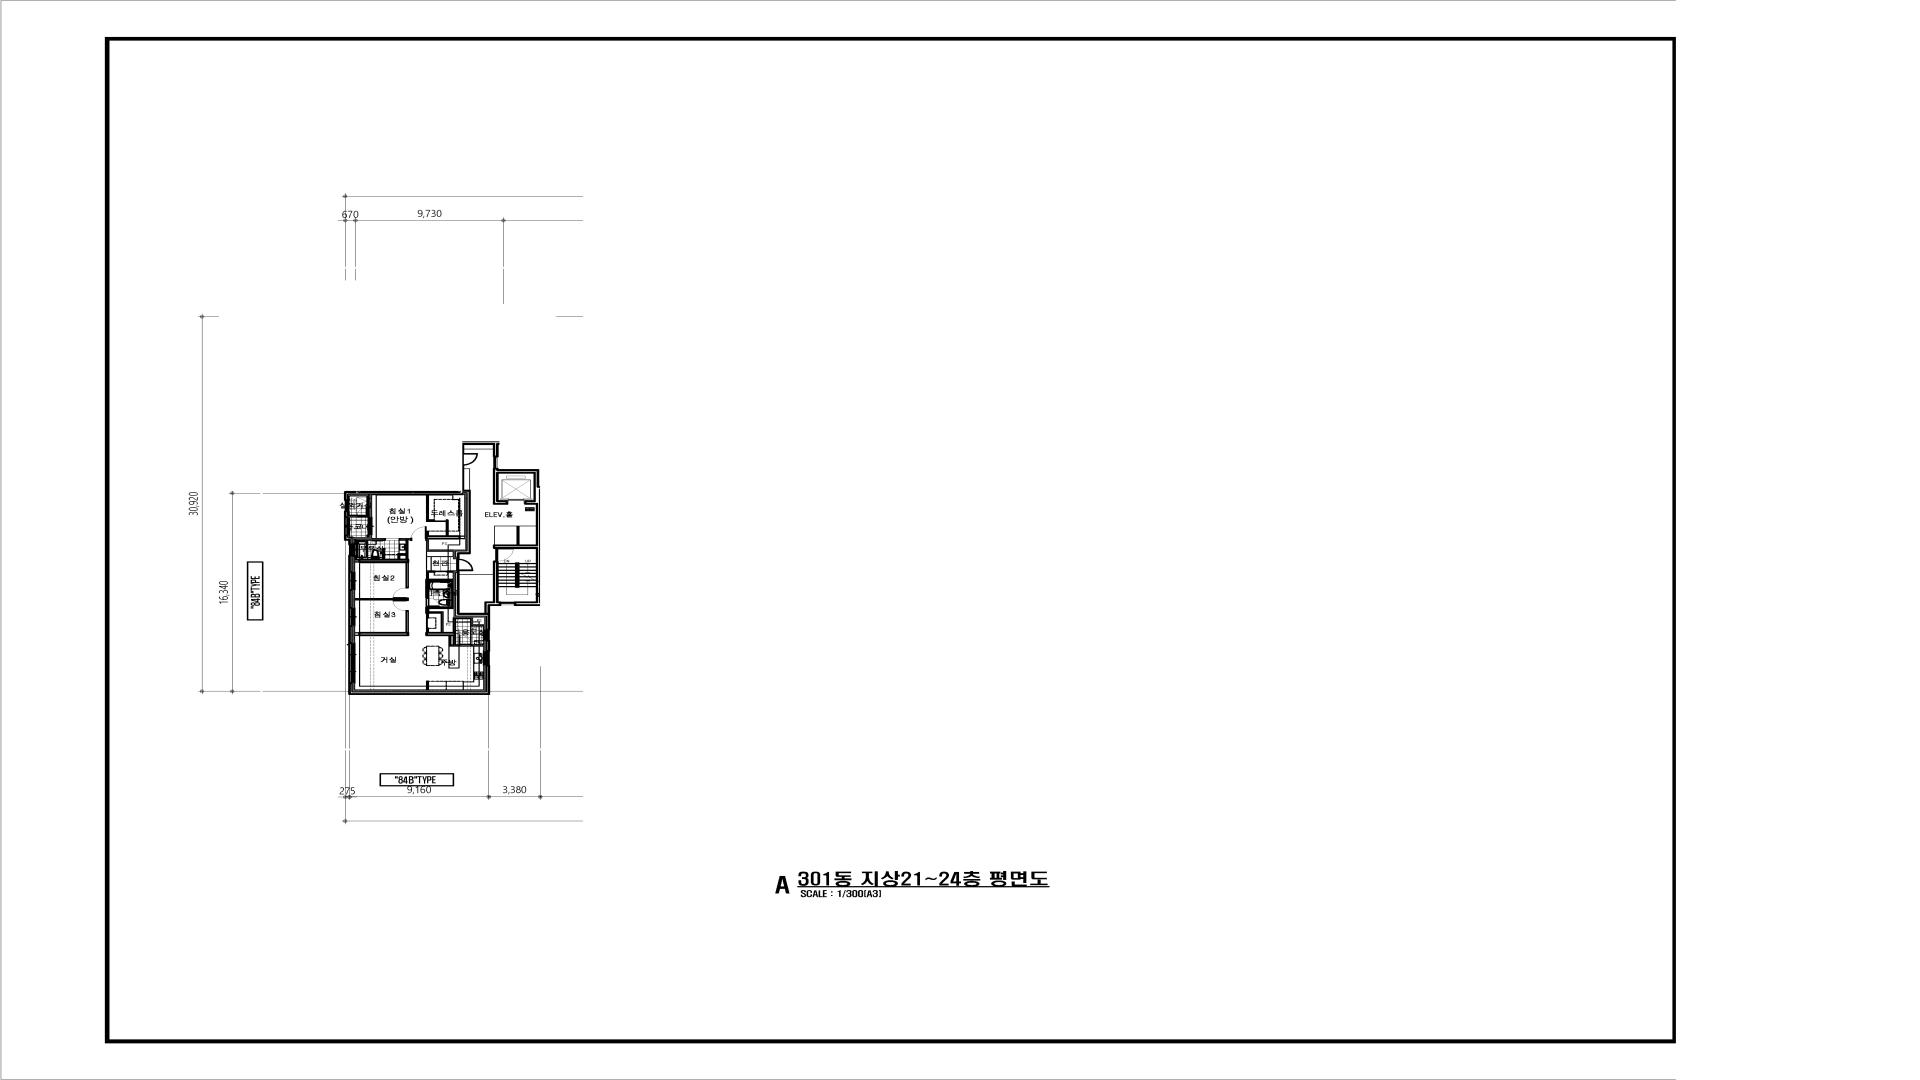door: (456, 559, 475, 571), (495, 549, 513, 560), (463, 452, 479, 465), (413, 526, 425, 541), (459, 634, 472, 646), (393, 588, 409, 597), (393, 601, 409, 611), (371, 541, 385, 550), (426, 597, 439, 607), (357, 508, 367, 518), (435, 571, 446, 572)
wall: (493, 468, 541, 607), (372, 492, 468, 559), (344, 491, 460, 545), (425, 570, 487, 646), (348, 666, 491, 695), (351, 666, 487, 692), (352, 550, 409, 588), (347, 493, 386, 545), (458, 570, 491, 630), (352, 611, 409, 644), (458, 467, 471, 559), (352, 591, 409, 608), (484, 560, 501, 613), (463, 443, 498, 458), (397, 538, 413, 559), (472, 641, 487, 651), (469, 618, 484, 626), (348, 626, 352, 644), (348, 591, 352, 608), (348, 555, 352, 572), (487, 641, 491, 651)
window: (348, 644, 356, 683), (348, 572, 356, 591), (348, 609, 355, 626), (483, 651, 489, 665), (368, 518, 372, 534), (348, 546, 355, 555), (484, 630, 489, 641), (501, 601, 514, 605), (493, 458, 497, 468)
